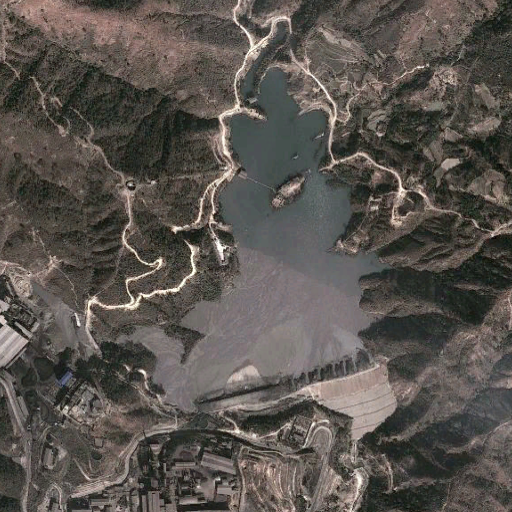tp: (110, 64, 397, 445)
